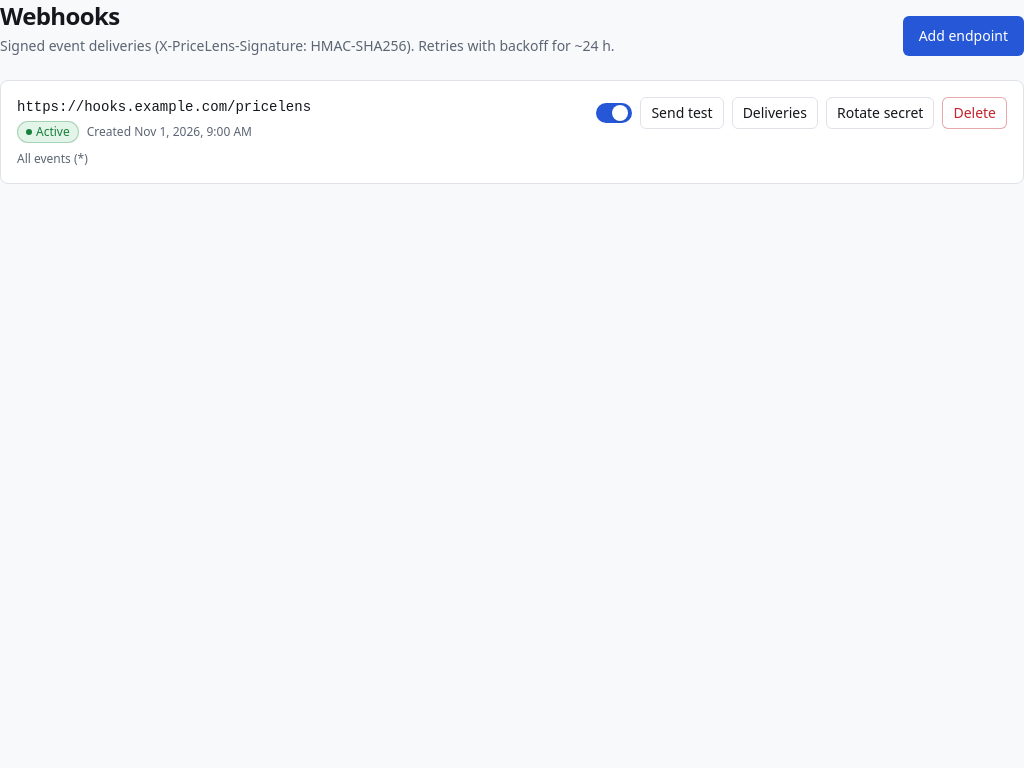
Test case: WebhooksView › rotates the secret and shows the new one once
Later steps or results of the test are not shown.
Click the button "Rotate secret" at (880, 113), box 826,97 -> 934,129
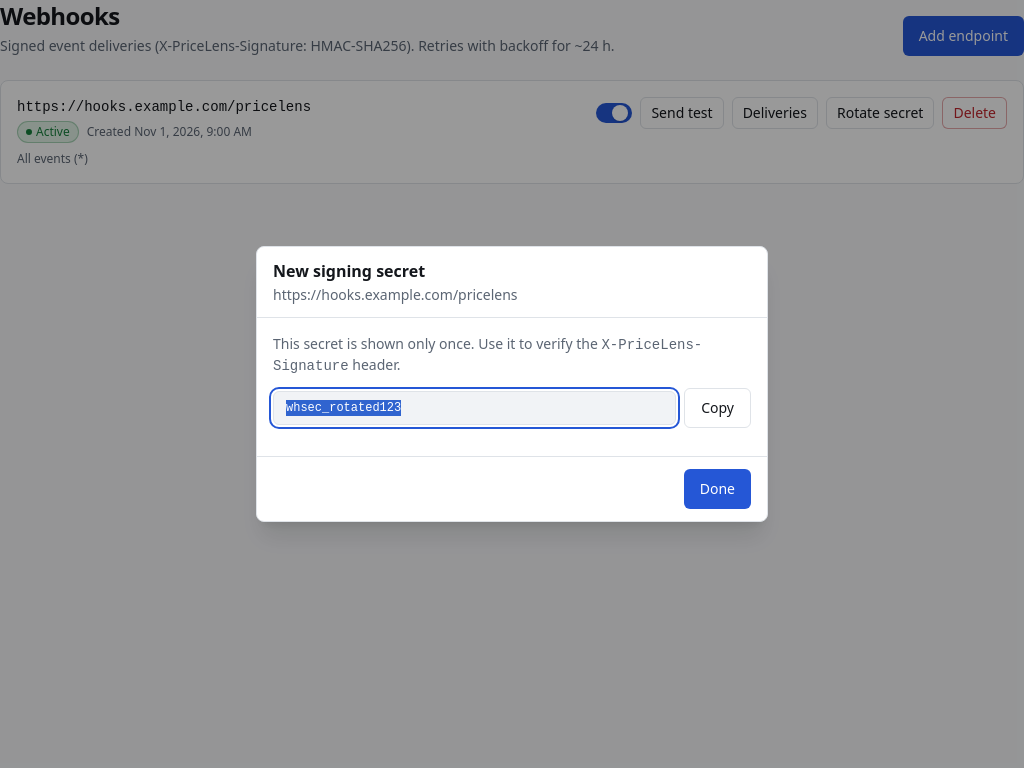
Result: the field showing "whsec_rotated123" is shown at 273,391 -> 676,425
Result: the text "shown only once" is shown at 273,334 -> 602,353
